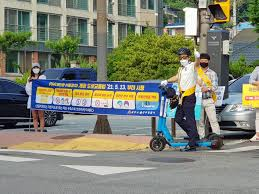guide_blocks: (15, 141, 145, 148), (70, 136, 111, 147)
kick_wheel: (150, 137, 165, 151), (209, 135, 222, 148)
